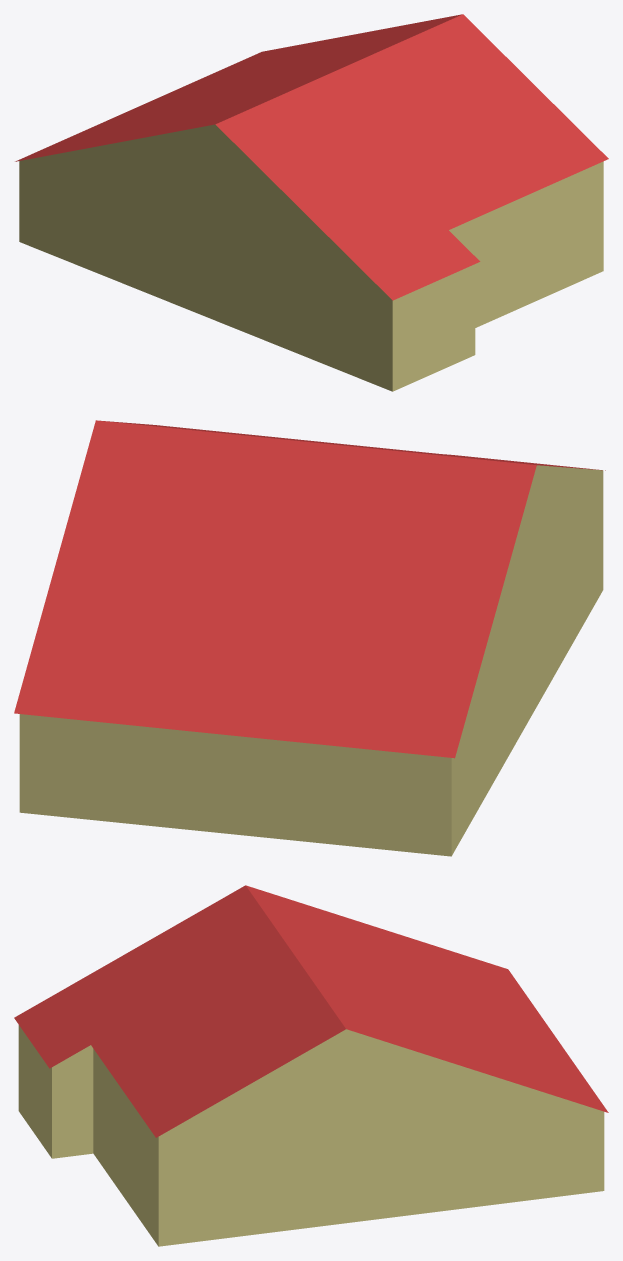
The picture shows the model from 3 angles, top to bottom: view 1: azimuth 30°, elevation 25°; view 2: azimuth 150°, elevation 25°; view 3: azimuth 270°, elevation 25°; orthographic projection. The views are drawn at different scales.
Bounding box in the file's own units: 32.37 × 40.59 × 14.73.
